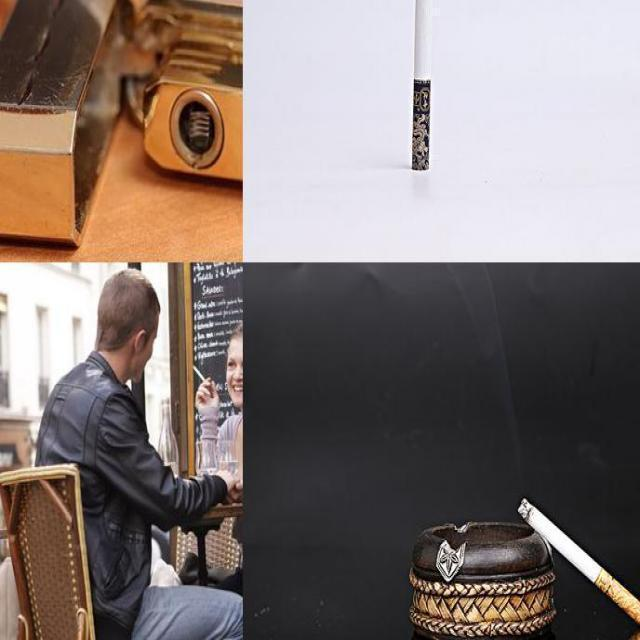rokok: (513, 476, 639, 630), (412, 8, 434, 182), (192, 364, 206, 384)
